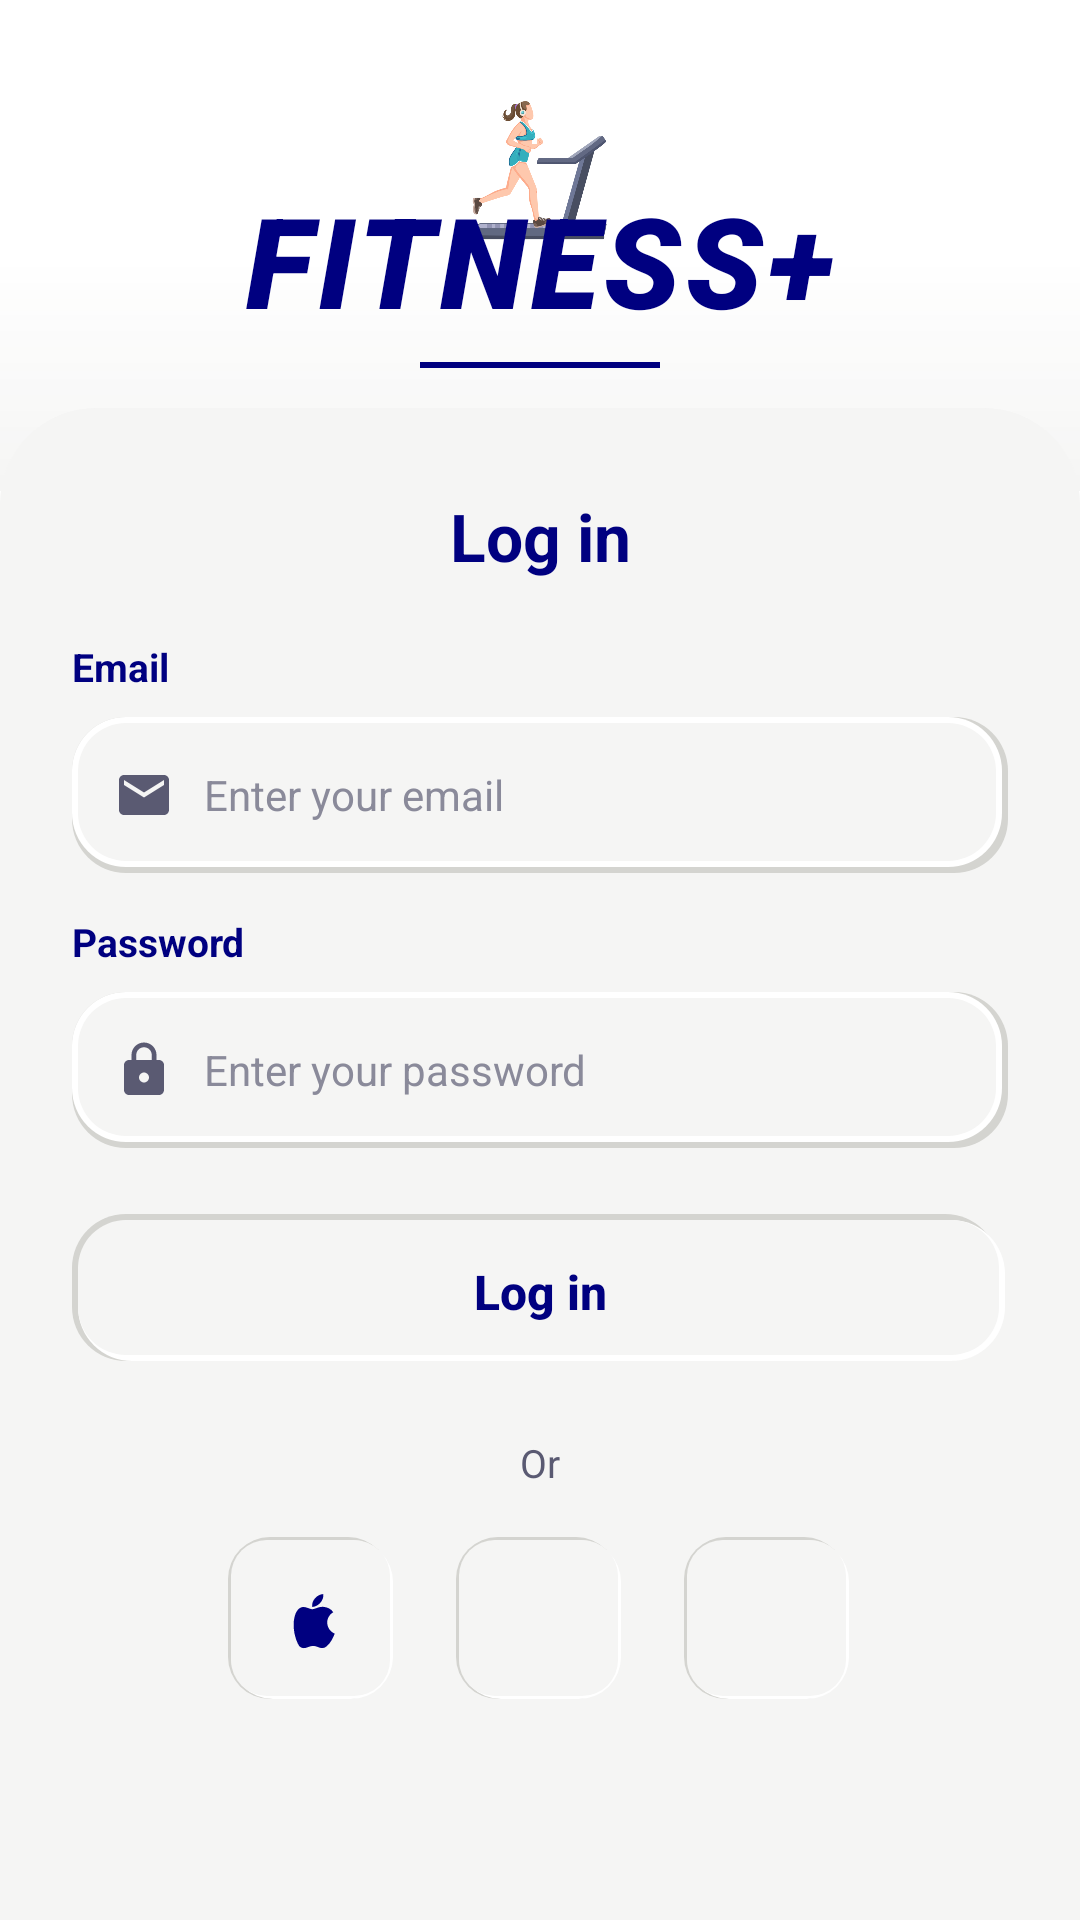

Where to tap for icons on this 1080 x 1920 app screen, as (x,y):
lock: (144,1068)
